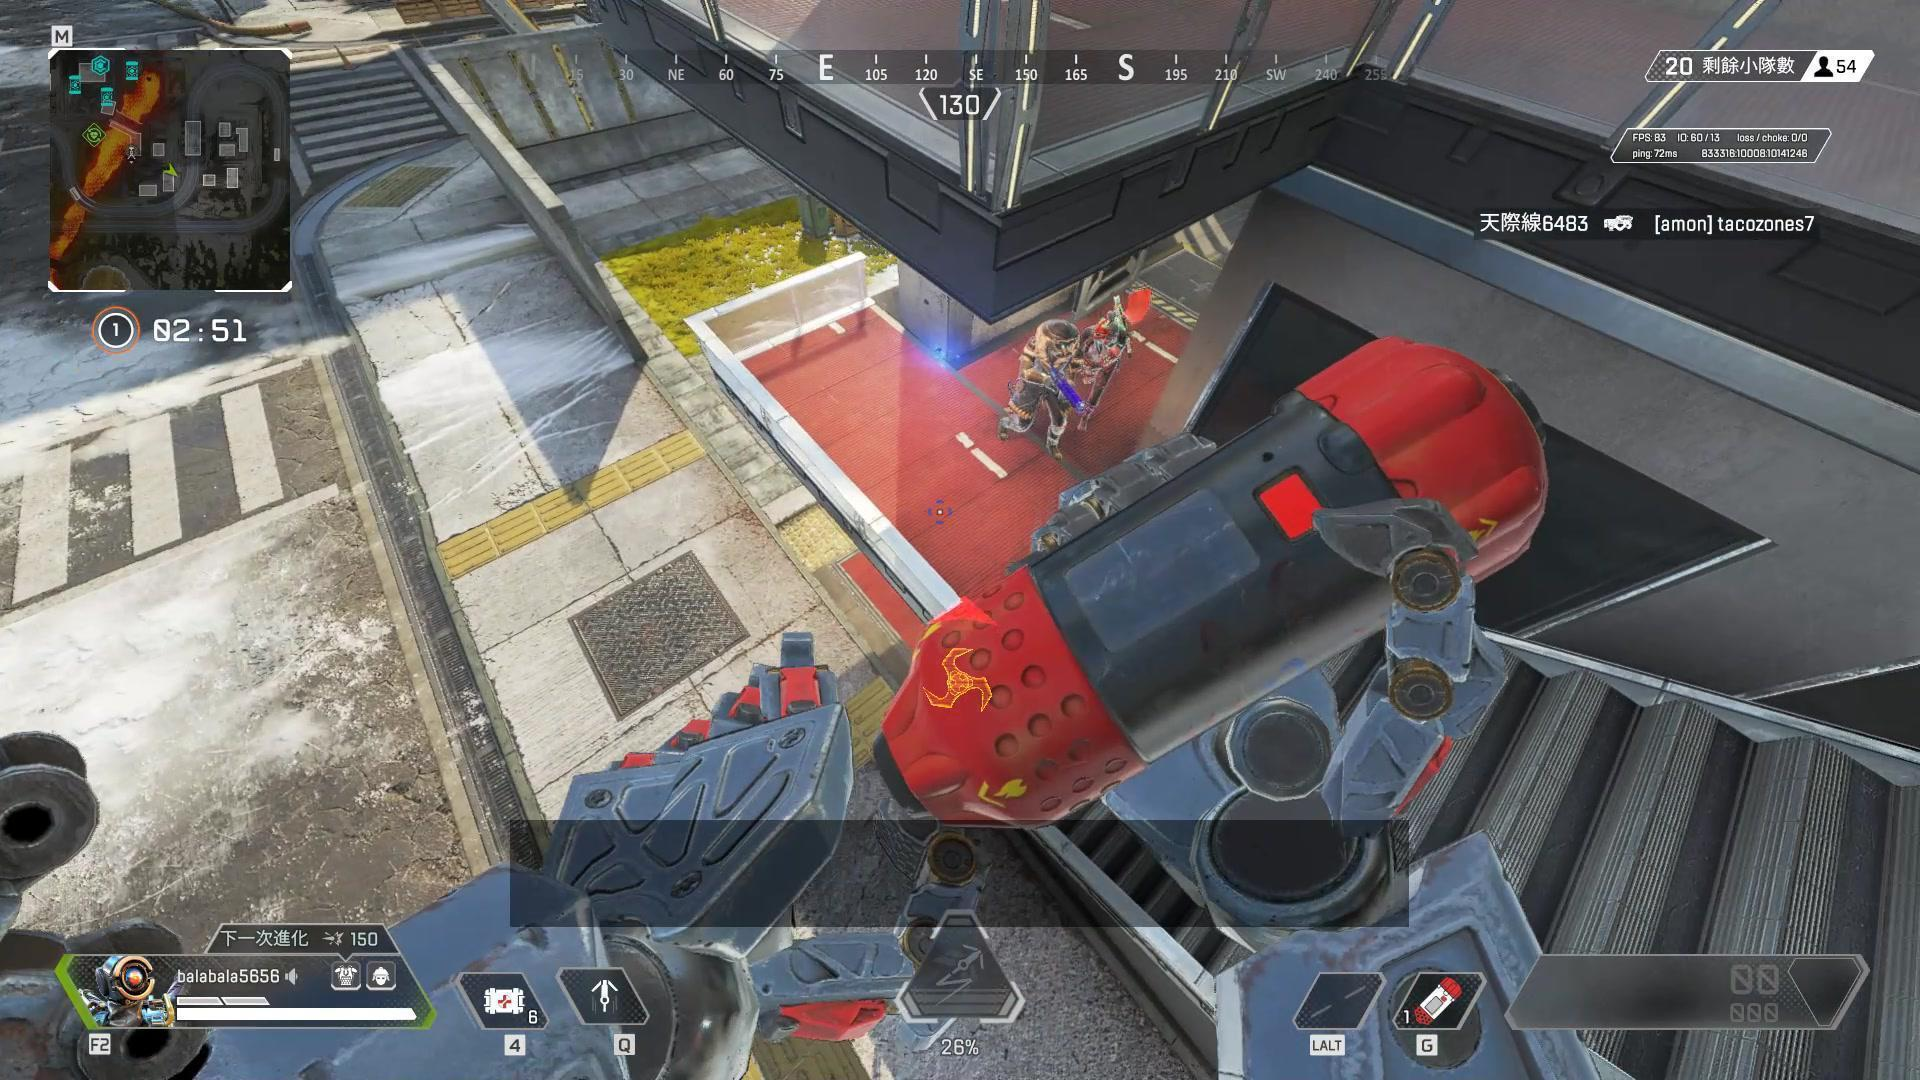avatar: (995, 318, 1082, 462)
